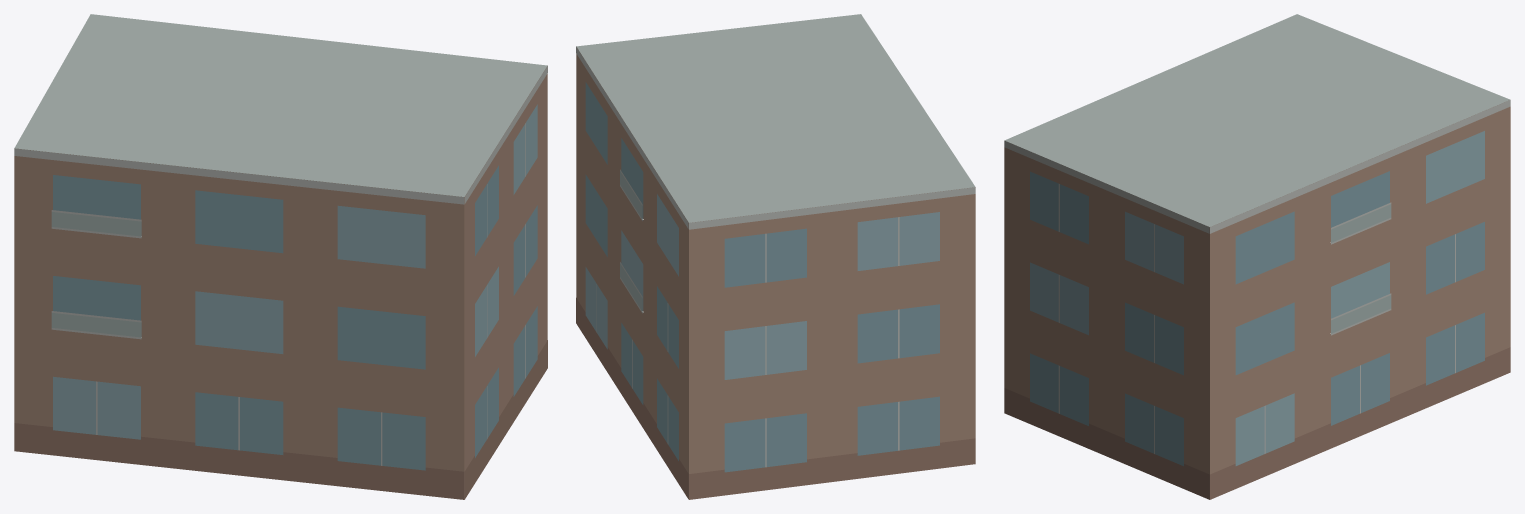
File: survey-upis-32884202.glb
The picture shows the model from 3 angles, left to right: view 1: azimuth 30°, elevation 25°; view 2: azimuth 150°, elevation 25°; view 3: azimuth 270°, elevation 25°; orthographic projection. The views are drawn at different scales.
Parts seen in each view (by area): view 1: survey-upis-32884202.tmp; view 2: survey-upis-32884202.tmp; view 3: survey-upis-32884202.tmp.
Boxes of the visible parts, x1,y1,x2,y2 form: survey-upis-32884202.tmp: (14, 14, 547, 499); survey-upis-32884202.tmp: (576, 14, 975, 499); survey-upis-32884202.tmp: (1004, 14, 1510, 499).
Size of the model in its own units: 16.43 by 9.8 by 16.49.
